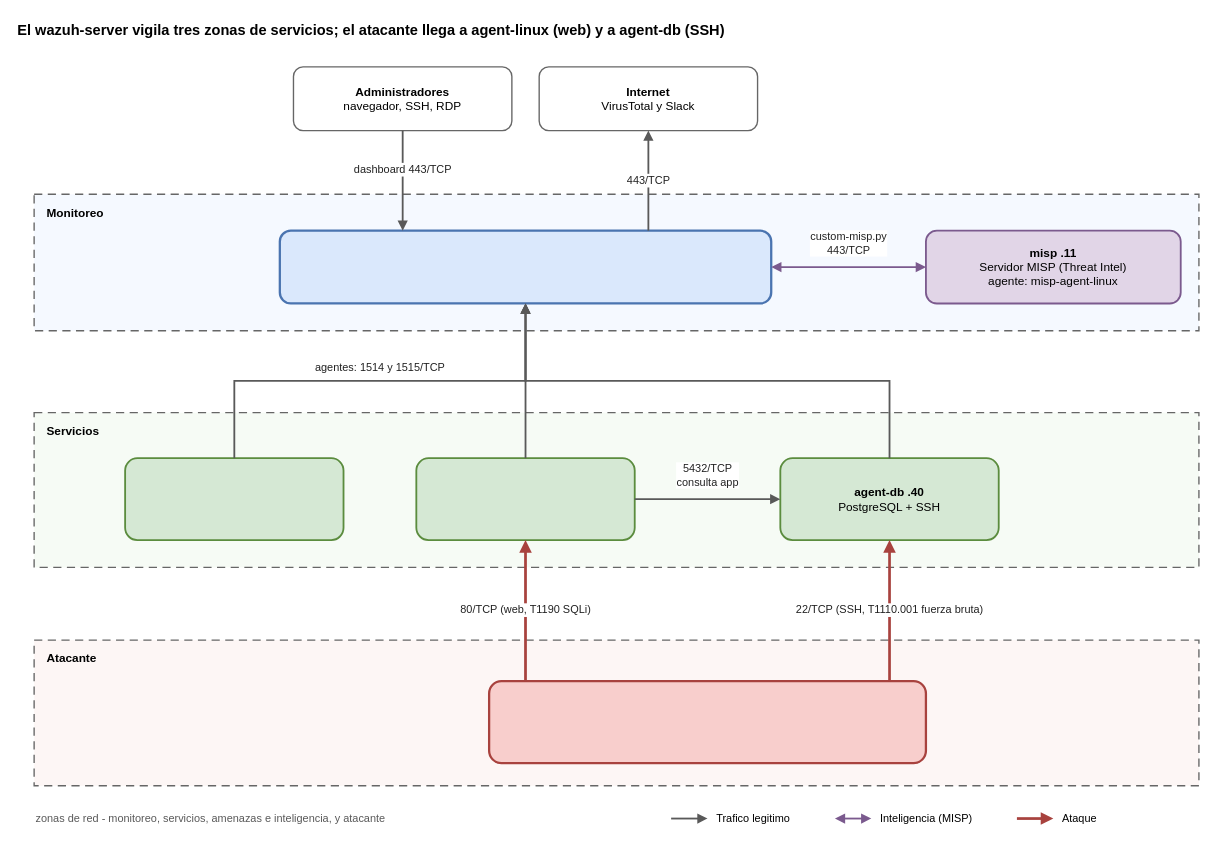
The diagram is 1215 pixels wide and 844 high, and some of its shapes have lost their labels. Each missing label, with the centre of its shape:
"agent-linux .20 Apache + PHP" goes at point (525, 499).
"agent-windows .30 Active Directory + SMB" goes at point (234, 499).
"attacker .50 (asignada; .99 sugerida en enunciado) Kali Linux" goes at point (707, 722).
"wazuh-server .10 Manager + Indexer + Dashboard" goes at point (525, 266).
